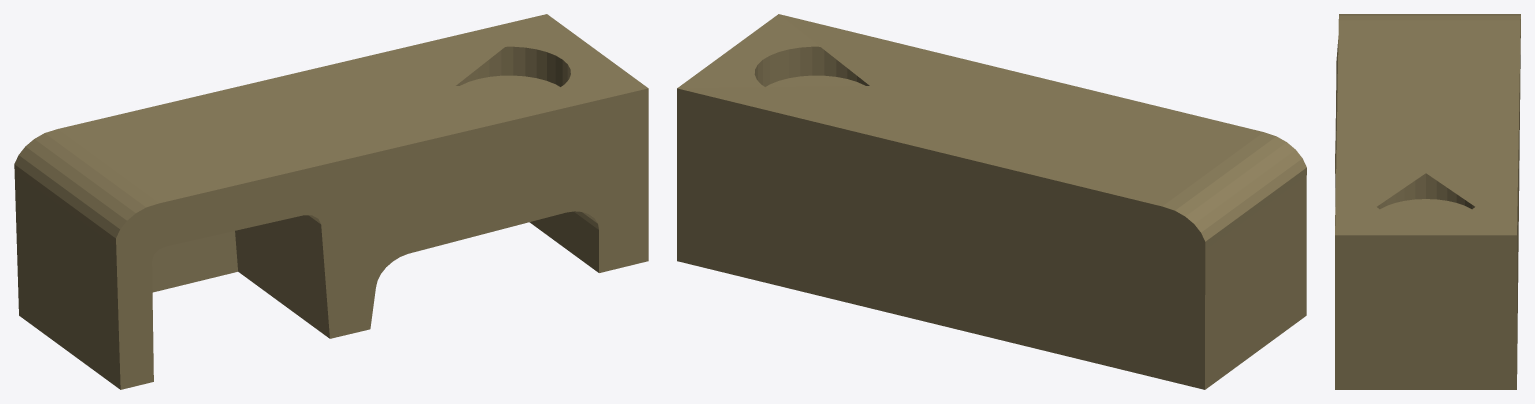
The model's file is Kompor.fbx.
The picture shows the model from 3 angles, left to right: view 1: azimuth 30°, elevation 25°; view 2: azimuth 150°, elevation 25°; view 3: azimuth 270°, elevation 25°; orthographic projection. The views are drawn at different scales.
Visible parts, largest first — view 1: kompor; view 2: kompor; view 3: kompor.
Boxes of the visible parts, bbox=[...] form: kompor: bbox=[14, 14, 648, 389]; kompor: bbox=[677, 14, 1306, 389]; kompor: bbox=[1335, 14, 1520, 389].
Size of the model in its own units: 451 by 143 by 153.
